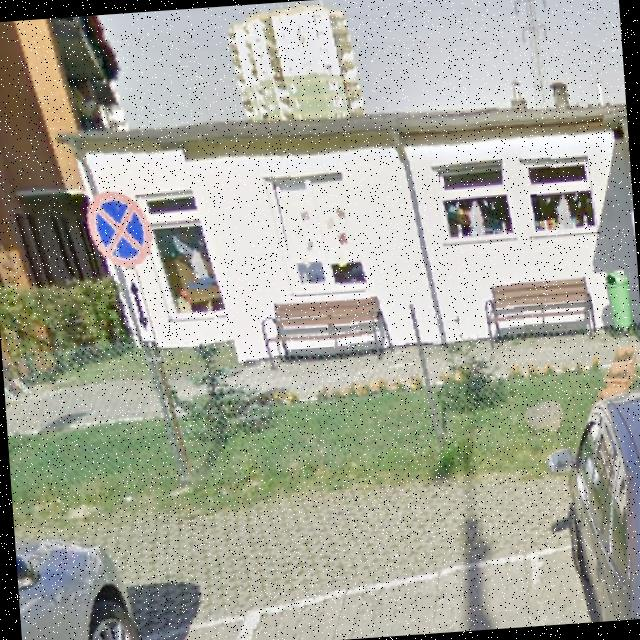Zakaz zatrzymywania sie: (80, 185, 154, 271)
